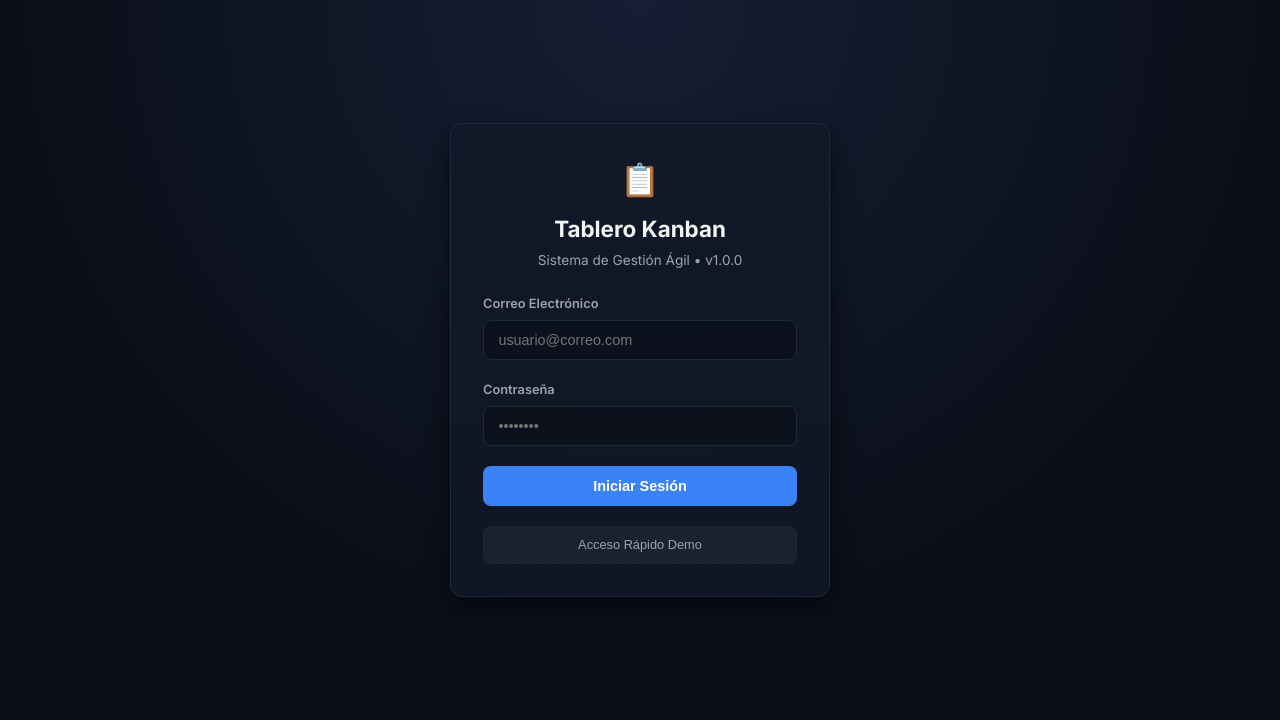
Test: Tablero Kanban › permite entrar al tablero y agregar una tarea
This screenshot has width=1280, height=720.
Click the button "Acceso Rápido Demo" at x=640, y=545, box top-left (483, 526), bottom-right (797, 564)
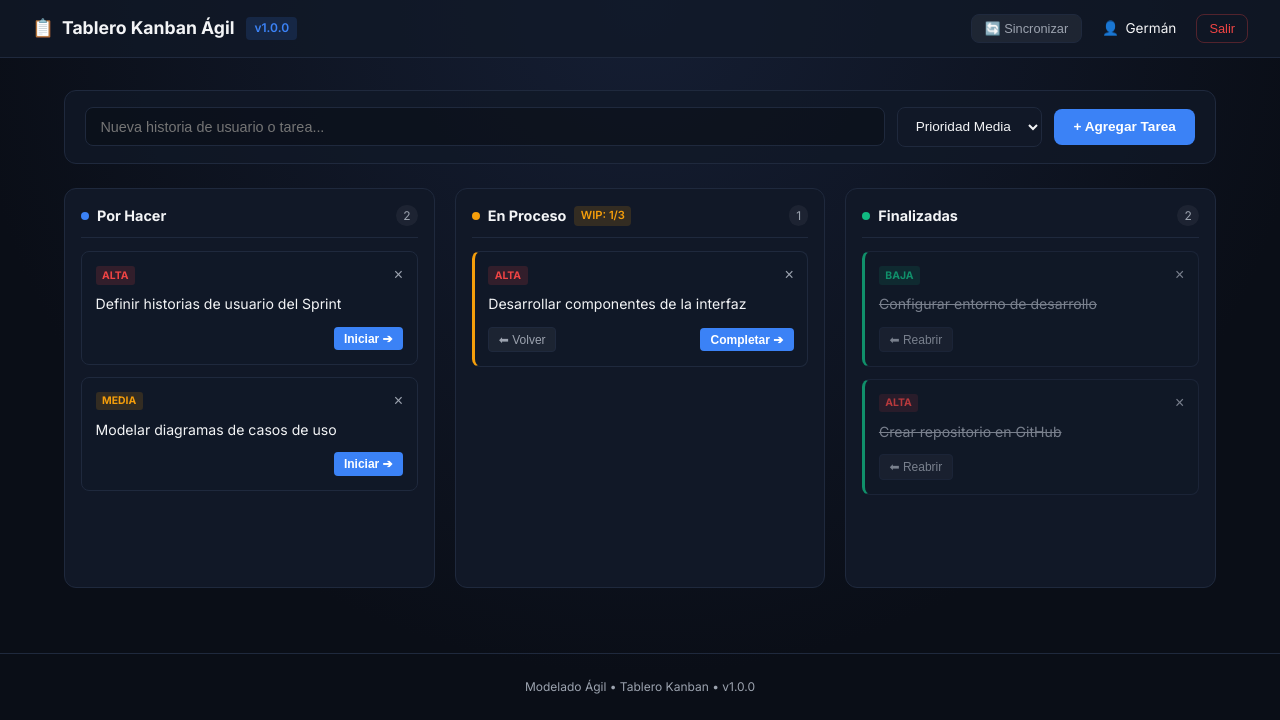
Type "Revisar métricas del servicio" into the field with placeholder "Nueva historia de usuario o tarea..." at x=485, y=127, box top-left (85, 108), bottom-right (885, 146)
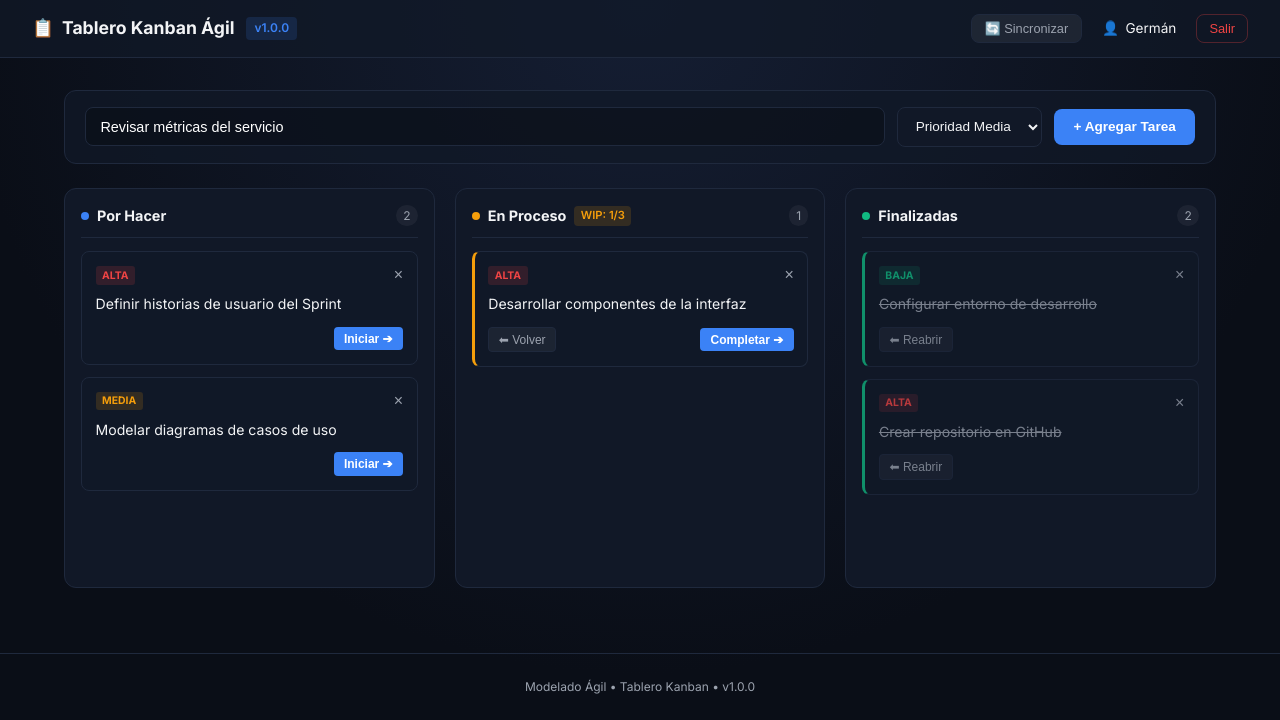
Click the button "+ Agregar Tarea" at x=1125, y=127, box top-left (1054, 109), bottom-right (1195, 145)
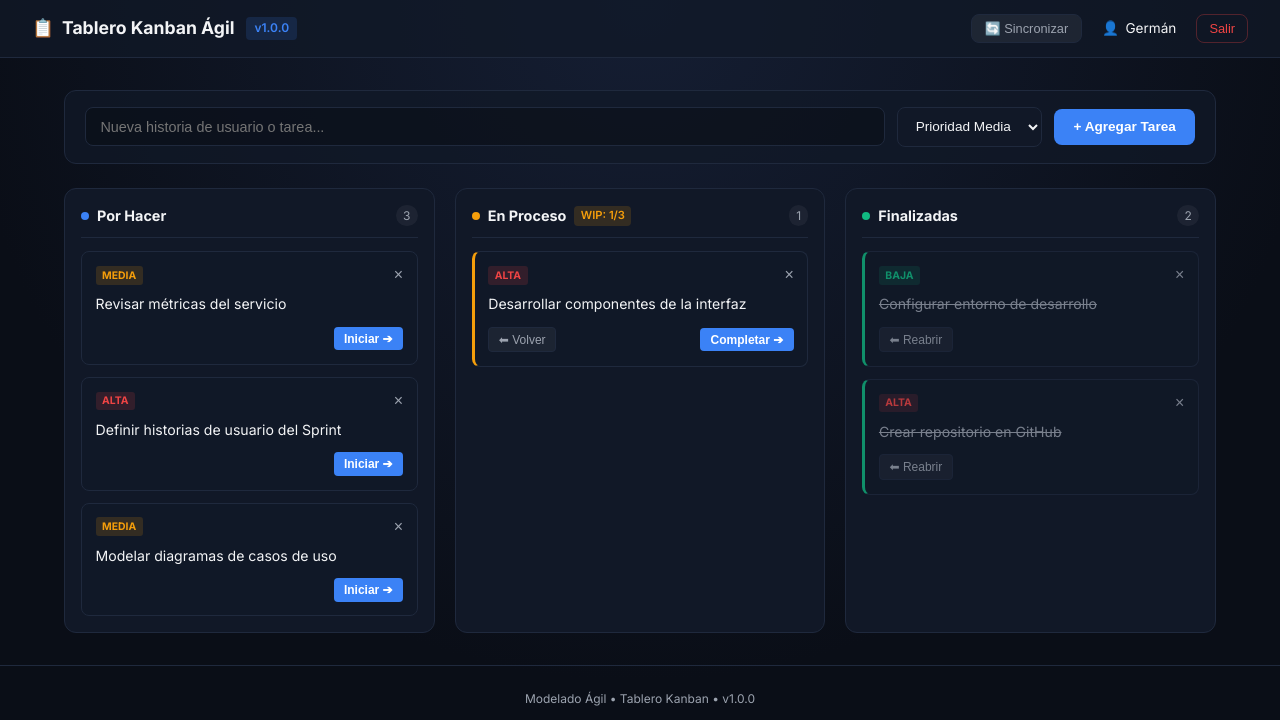
Now the text "Revisar métricas del servicio" is shown, box top-left (96, 295), bottom-right (286, 312)
